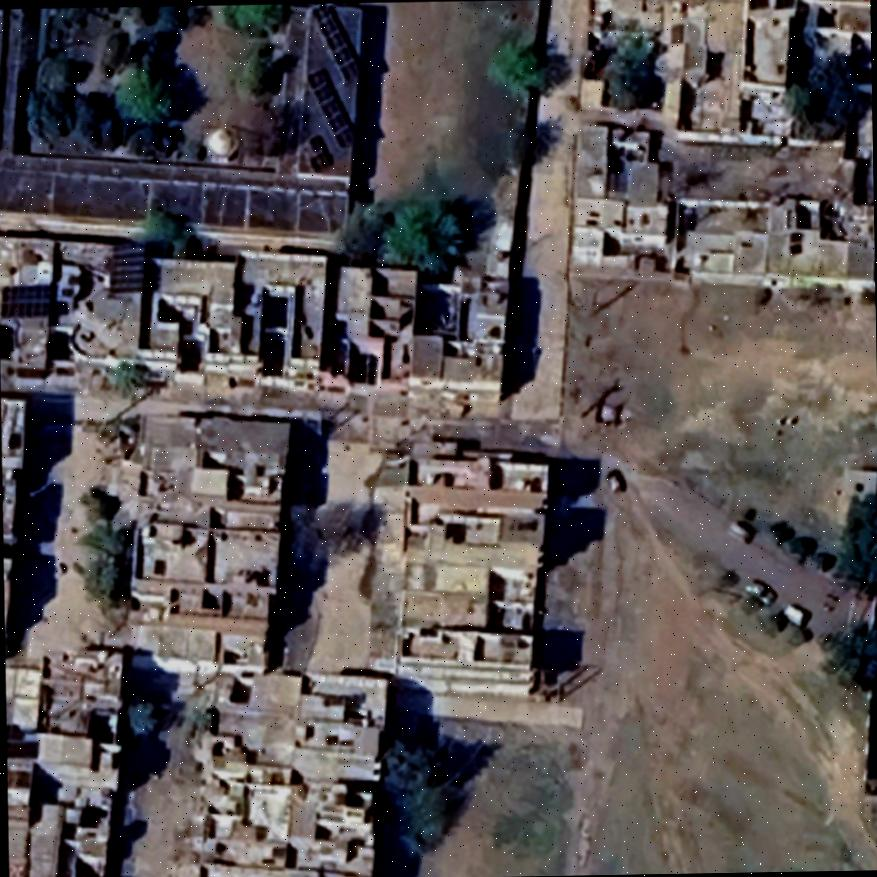Solarpanel: (309, 2, 364, 85), (305, 67, 354, 152), (0, 279, 59, 321), (108, 239, 147, 290), (304, 128, 331, 175)
